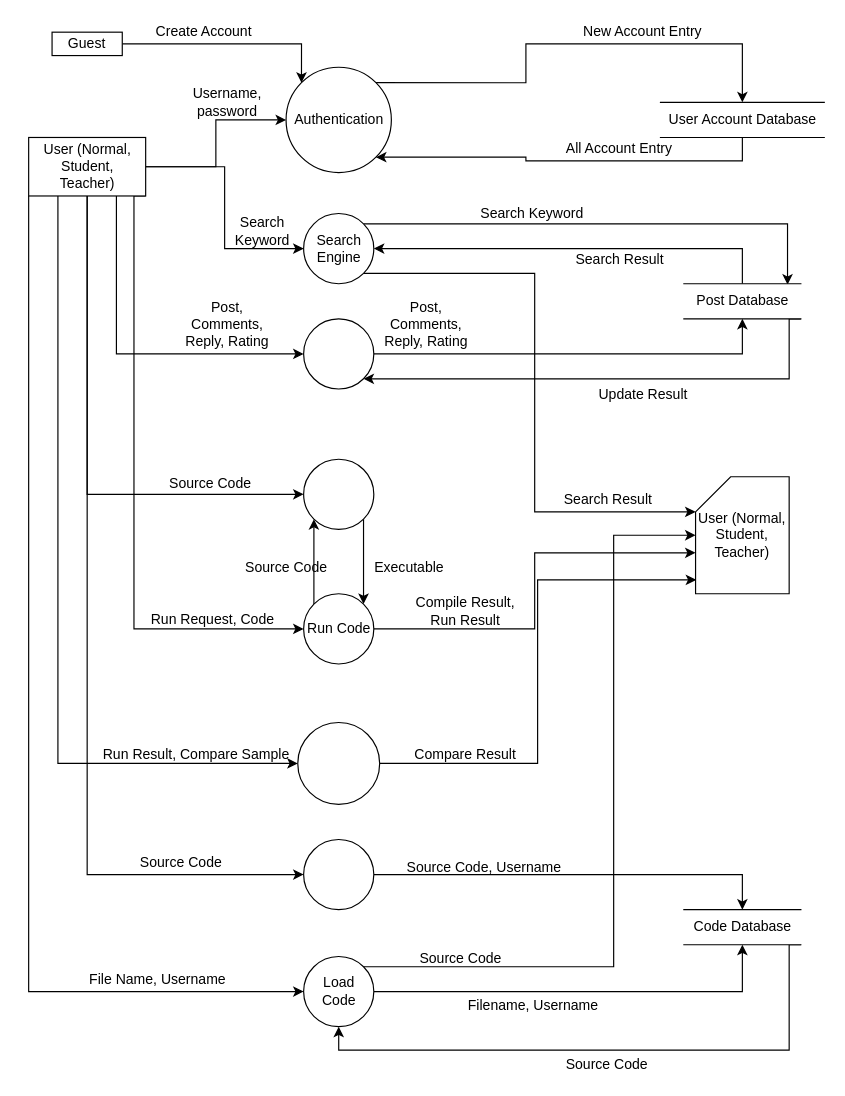
Image size: 845x1096. Some labels were removed from this diagram. The box of each missing label's shape, as (x1, y1, x2, y2) in pixels:
Compile Code: (302, 458, 374, 529)
Post Update: (302, 318, 374, 389)
Result Comparison: (297, 721, 380, 804)
Save Code: (302, 838, 374, 910)
